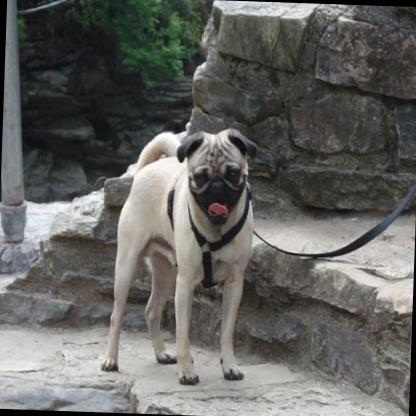pug: (99, 122, 260, 397)
